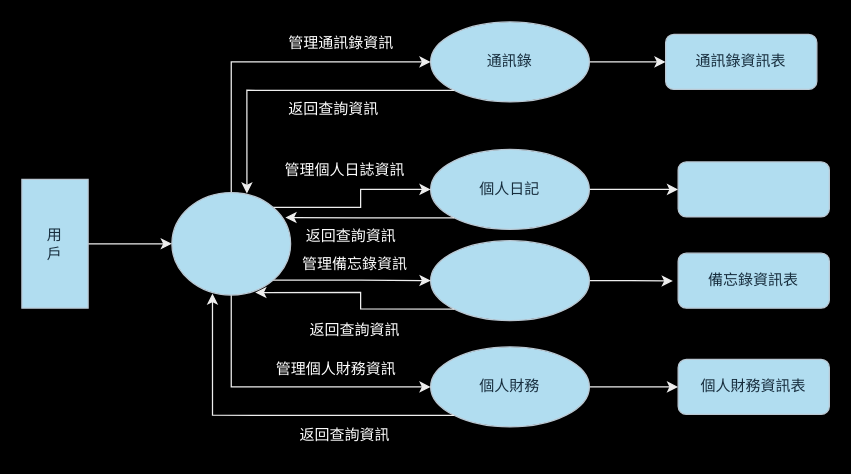
This 851x474 diagram has some shape labels left out. Each missing label, with the box of its shape:
個人日誌資訊表: (677, 161, 829, 217)
備忘錄: (429, 239, 589, 321)
登陸: (171, 191, 291, 295)
